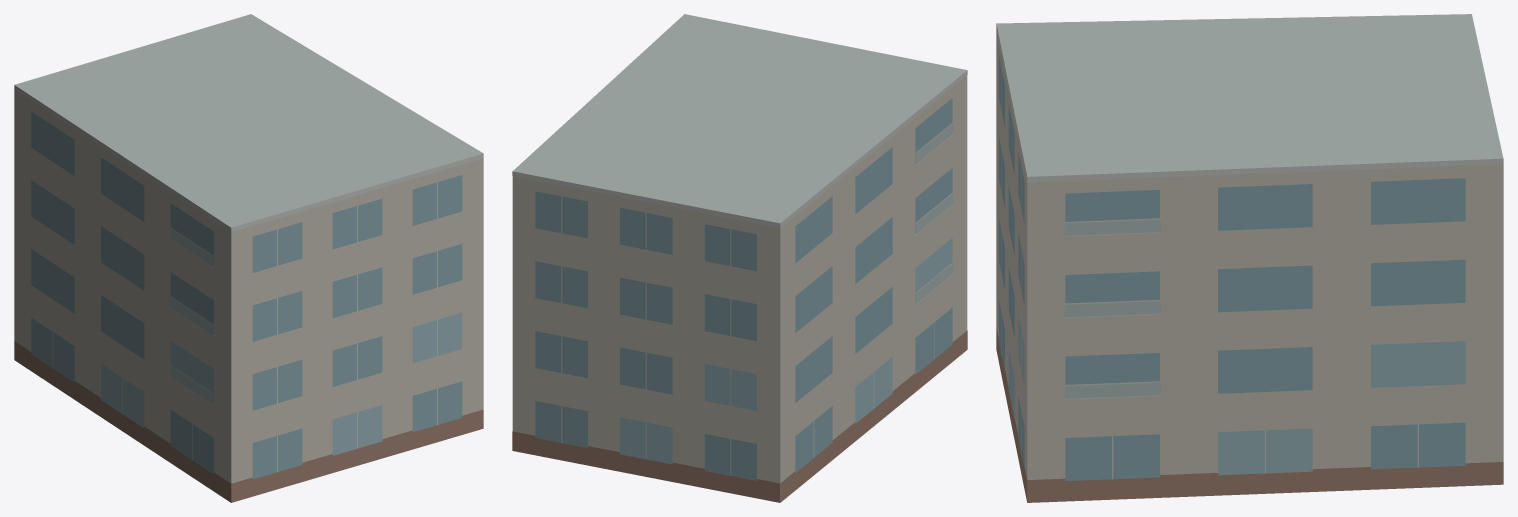
Rendered from survey-upis-32982070.glb.
3 views of the same model, side by side, from view 1: azimuth 30°, elevation 25°; view 2: azimuth 150°, elevation 25°; view 3: azimuth 270°, elevation 25° (orthographic). The views are drawn at different scales.
Parts seen in each view (by area): view 1: survey-upis-32982070.tmp; view 2: survey-upis-32982070.tmp; view 3: survey-upis-32982070.tmp.
Boxes of the visible parts, bbox=[...] form: survey-upis-32982070.tmp: bbox=[14, 14, 483, 502]; survey-upis-32982070.tmp: bbox=[512, 14, 967, 502]; survey-upis-32982070.tmp: bbox=[996, 14, 1503, 502].
Bounding box in the file's own units: 15.09 × 14.07 × 19.85.
